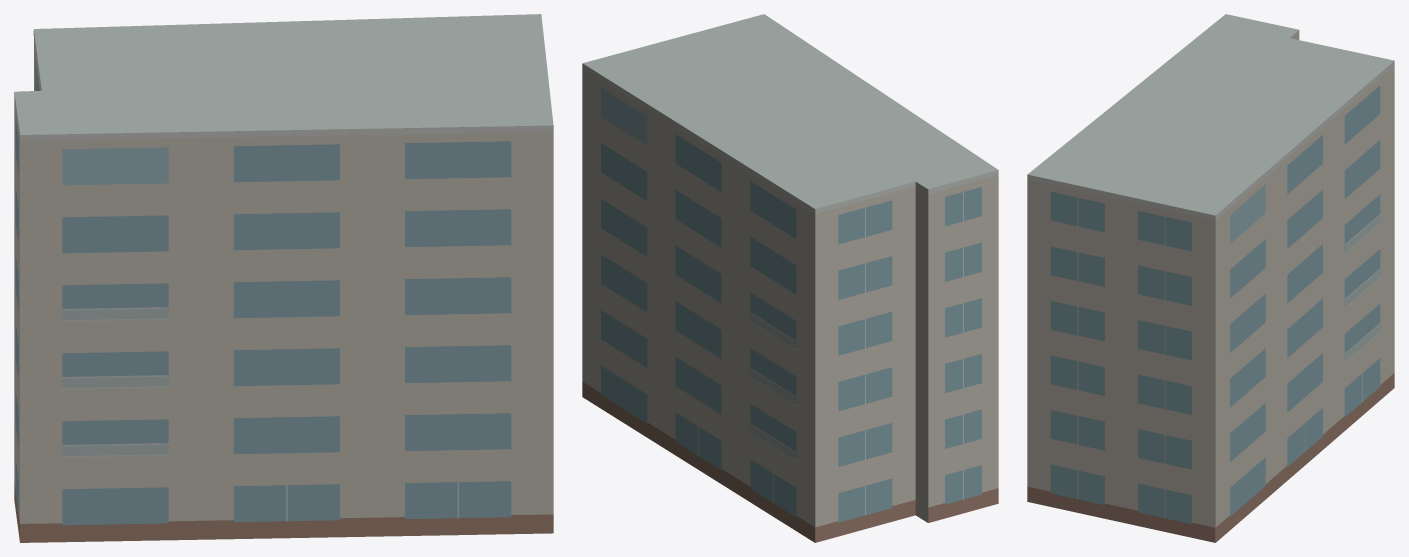
File: survey-upis-32783474.glb
3 views of the same model, side by side, from view 1: azimuth 30°, elevation 25°; view 2: azimuth 150°, elevation 25°; view 3: azimuth 270°, elevation 25° (orthographic). The views are drawn at different scales.
Visible parts, largest first — view 1: survey-upis-32783474.tmp; view 2: survey-upis-32783474.tmp; view 3: survey-upis-32783474.tmp.
Part boxes in pixels (box(x1,y1,x2,y2)): survey-upis-32783474.tmp: box(14, 14, 553, 542); survey-upis-32783474.tmp: box(582, 14, 998, 542); survey-upis-32783474.tmp: box(1027, 14, 1394, 542).
Size of the model in its own units: 21.67 by 16.4 by 16.68.
